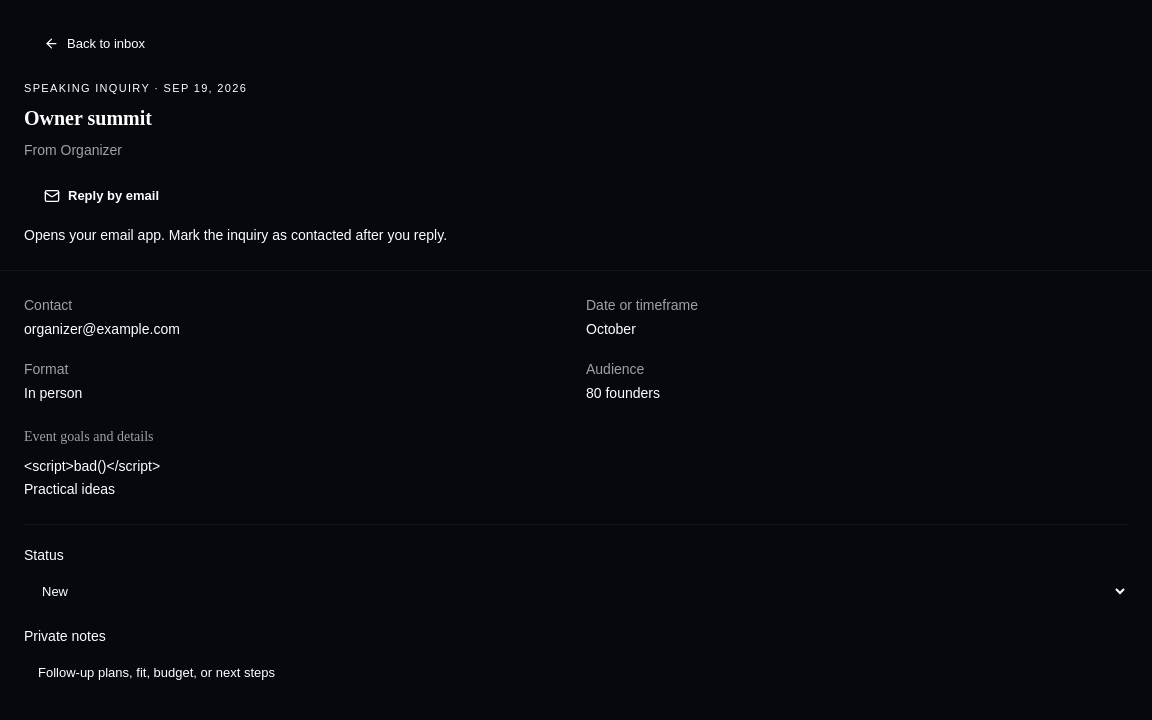
Test: speaking inbox details › only saves status and private notes with concurrency protection
The image size is (1152, 720).
Select "Contacted" in the dropdown labelled "Status" at (576, 592), box [24,573,1128,610]
(page scrolled)
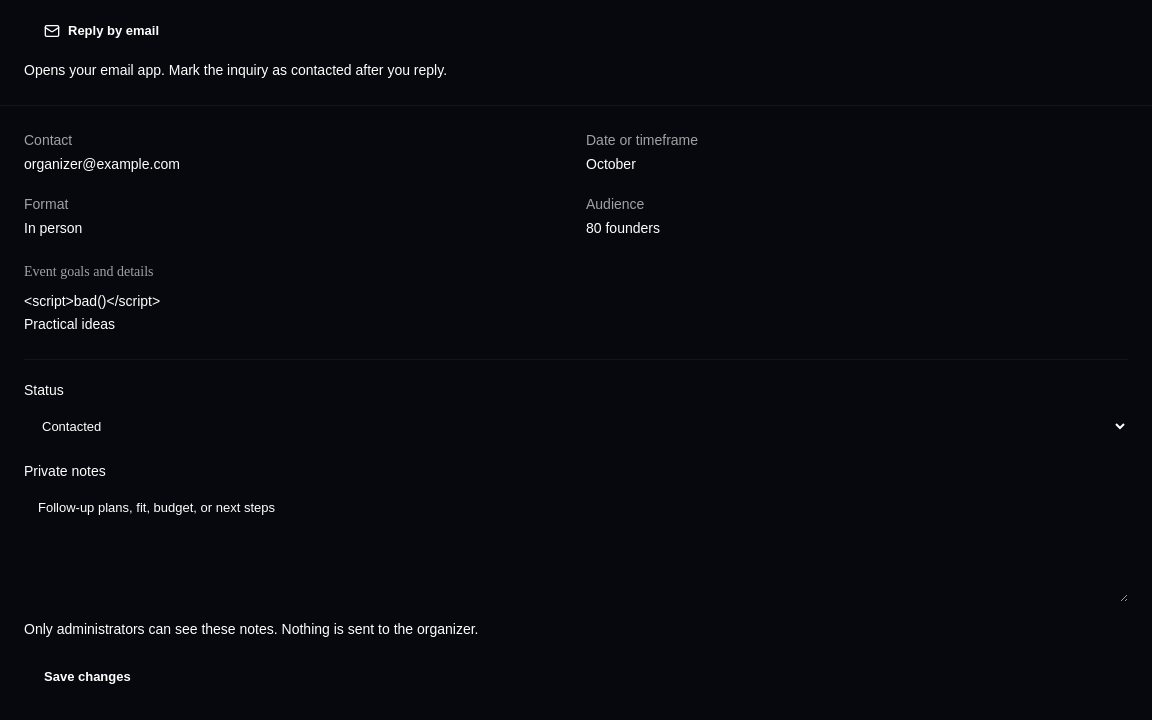
Type "Sent availability" into the text box labelled "Private notes".
click(576, 546); type("Sent availability")  # box [24,489,1128,602]
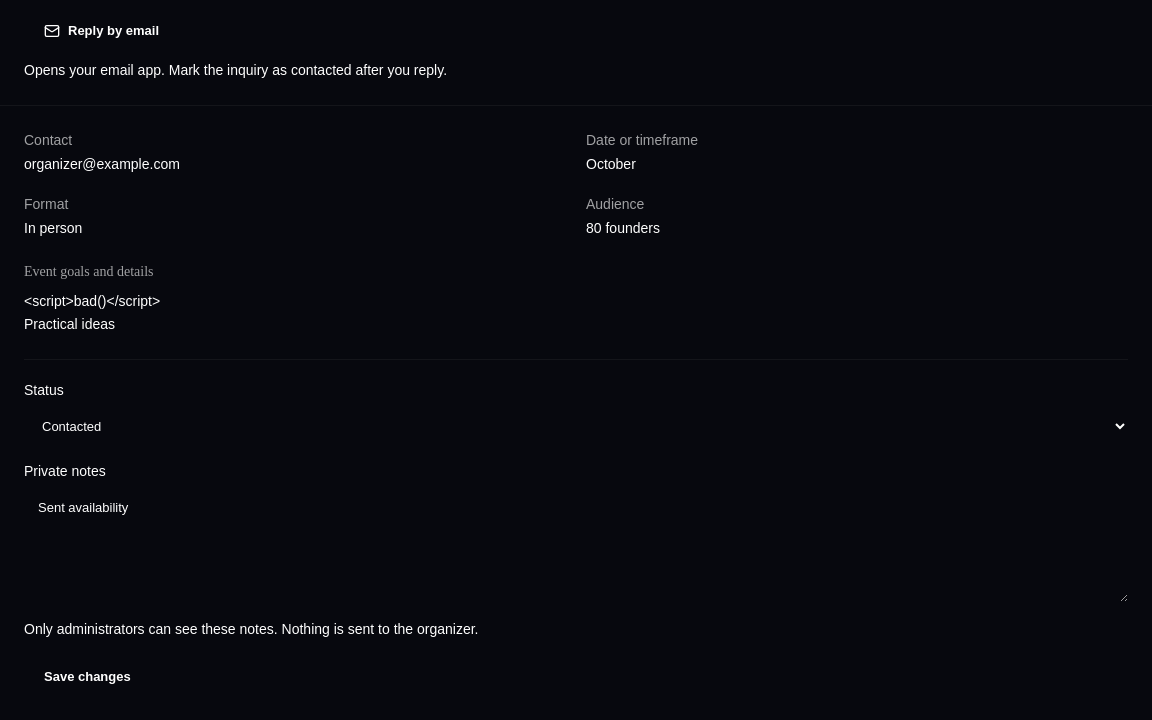
Click the button "Save changes".
click(87, 676)  # box [24,657,151,696]
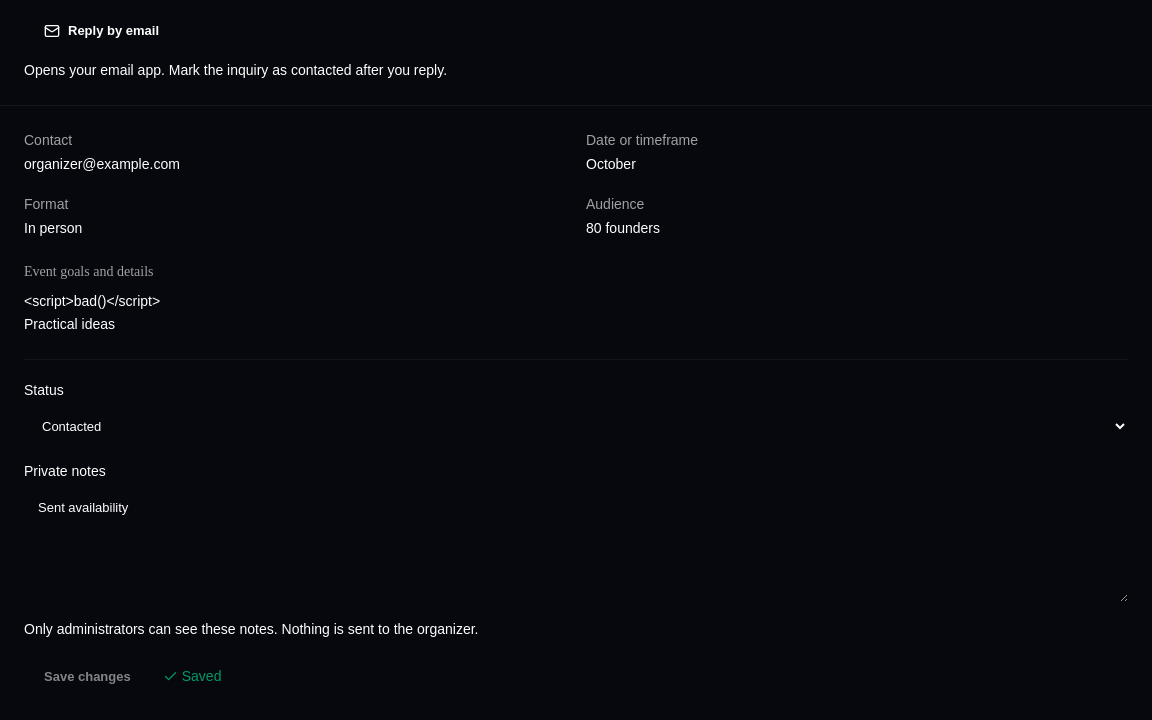
Expected: the message reads "Saved", [182,668,221,684]
Expected: the button "Save changes" is disabled, [24,657,151,696]
